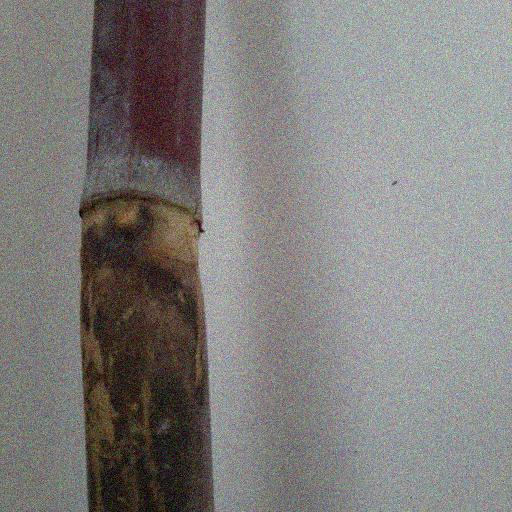Bud: (112, 203, 143, 235)
